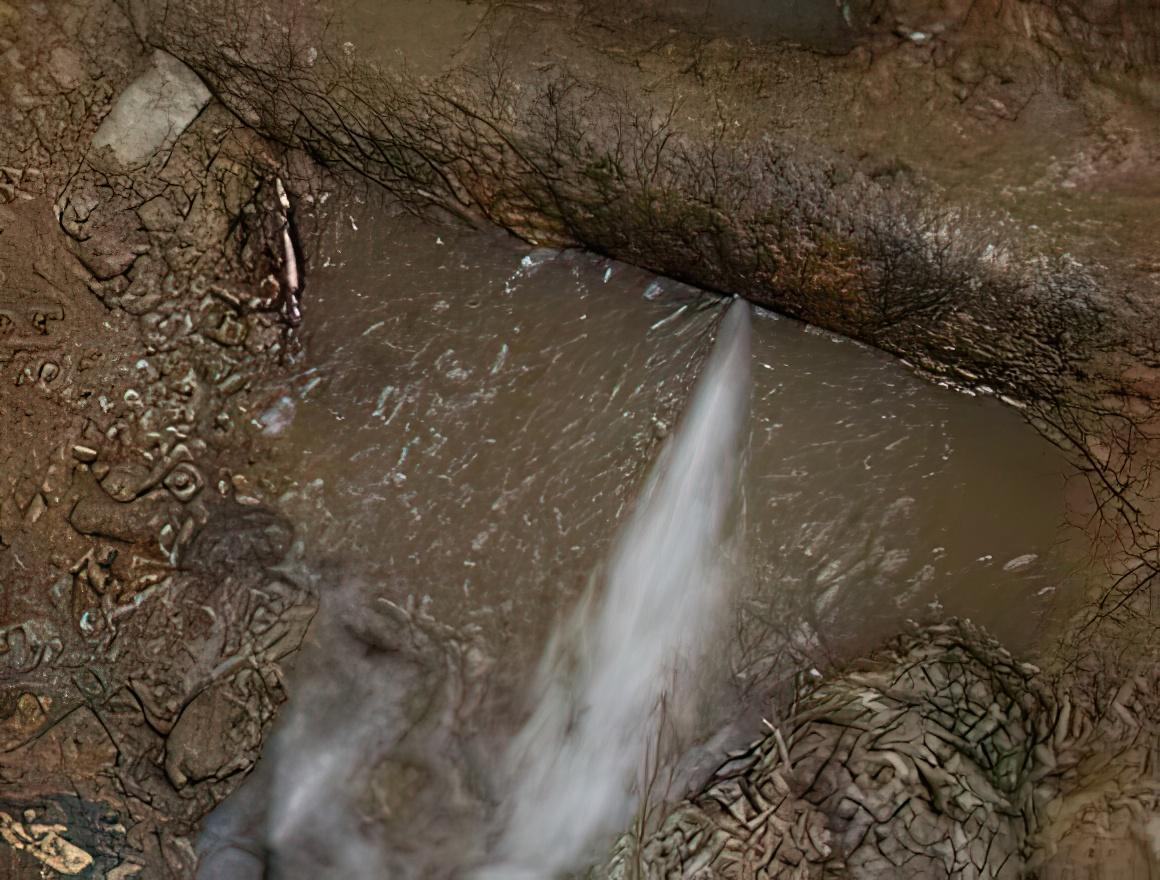pipe burst: (490, 280, 771, 857)
water accumulation: (226, 174, 1089, 691)
